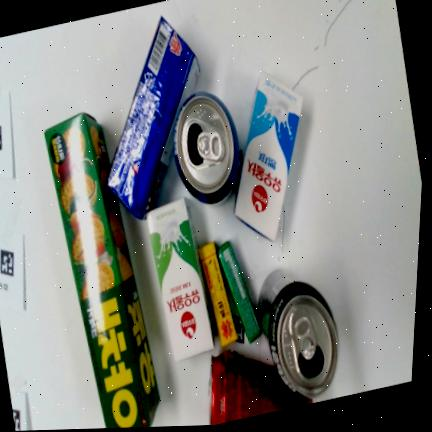can_coke_zero: (209, 353, 312, 425)
can_pepsi: (174, 92, 239, 203)
can_pepsi_zero: (259, 269, 339, 397)
cracker_ace: (108, 16, 200, 218)
cracker_vege: (46, 113, 160, 428)
gum_green: (219, 242, 261, 343)
gum_yellow: (199, 243, 236, 345)
milk_blue: (235, 71, 303, 241)
milk_green: (147, 198, 214, 360)
